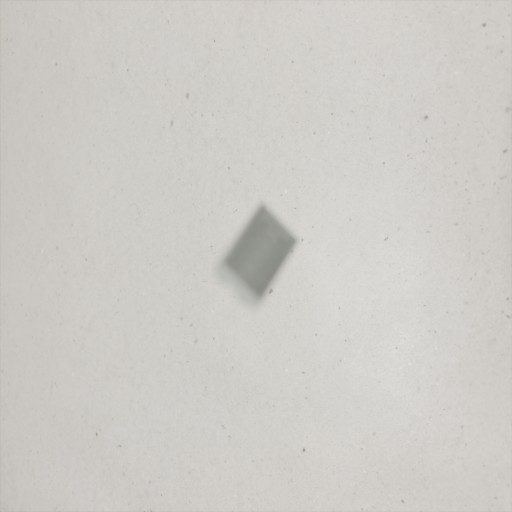lego: (212, 201, 301, 312)
